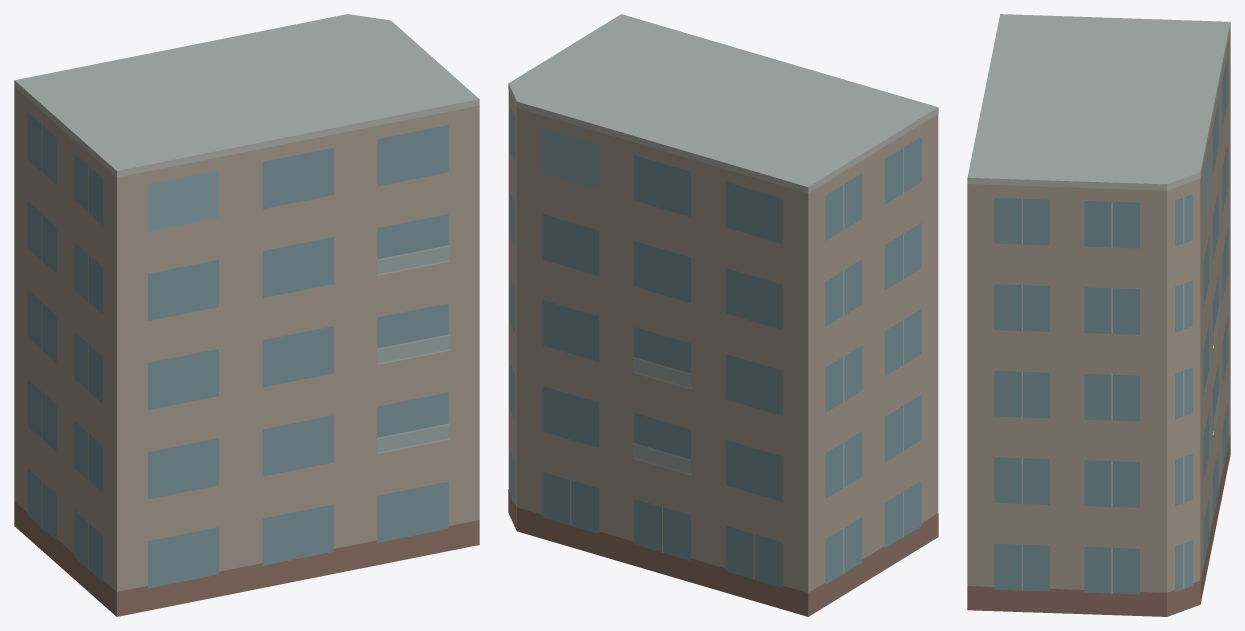
Rendered from survey-upis-32978092.glb.
3 renders of one model, left to right at view 1: azimuth 30°, elevation 25°; view 2: azimuth 150°, elevation 25°; view 3: azimuth 270°, elevation 25°, orthographic. The views are drawn at different scales.
Parts seen in each view (by area): view 1: survey-upis-32978092.tmp; view 2: survey-upis-32978092.tmp; view 3: survey-upis-32978092.tmp.
Boxes of the visible parts, left/top/right/bottom form: survey-upis-32978092.tmp: left=14, top=14, right=479, bottom=616; survey-upis-32978092.tmp: left=508, top=14, right=938, bottom=616; survey-upis-32978092.tmp: left=967, top=14, right=1230, bottom=616.
Bounding box in the file's own units: 14.2 × 16.79 × 9.27.
